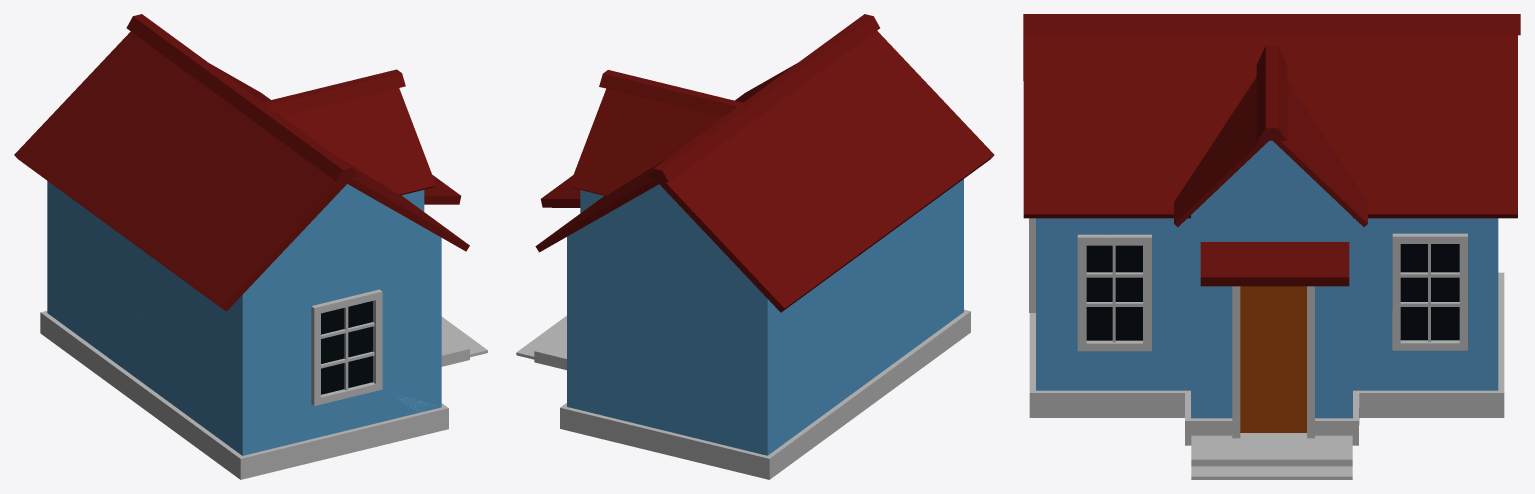
The model's file is House_1.FBX.
3 views of the same model, side by side, from view 1: azimuth 30°, elevation 25°; view 2: azimuth 150°, elevation 25°; view 3: azimuth 270°, elevation 25° (orthographic). The views are drawn at different scales.
Visible parts, largest first — view 1: polySurface104, polySurface100, polySurface144, polySurface120, polySurface141, polySurface155, polySurface102, polySurface142, polySurface78, polySurface145, polySurface82, polySurface140 (+12 smaller); view 2: polySurface80, polySurface82, polySurface144, polySurface120, polySurface141, polySurface104, polySurface102, polySurface142, polySurface89, polySurface140, polySurface145, polySurface146 (+13 smaller); view 3: polySurface129, polySurface131, polySurface123, polySurface119, polySurface126, polySurface127, polySurface110, polySurface132, polySurface122, polySurface100, polySurface117, polySurface96 (+26 smaller).
Boxes of the visible parts, x1=… form: polySurface104: x1=155, y1=262, x2=448, y2=479; polySurface100: x1=318, y1=199, x2=441, y2=412; polySurface144: x1=108, y1=115, x2=280, y2=295; polySurface120: x1=40, y1=226, x2=161, y2=421; polySurface141: x1=39, y1=90, x2=224, y2=198; polySurface155: x1=282, y1=88, x2=436, y2=195; polySurface102: x1=124, y1=237, x2=242, y2=370; polySurface142: x1=69, y1=100, x2=244, y2=226; polySurface78: x1=235, y1=184, x2=373, y2=347; polySurface145: x1=207, y1=164, x2=349, y2=311; polySurface82: x1=47, y1=181, x2=108, y2=289; polySurface140: x1=65, y1=31, x2=210, y2=100; polySurface80: x1=560, y1=263, x2=769, y2=479; polySurface82: x1=613, y1=184, x2=829, y2=424; polySurface144: x1=782, y1=73, x2=972, y2=243; polySurface120: x1=767, y1=266, x2=891, y2=479; polySurface141: x1=727, y1=115, x2=840, y2=293; polySurface104: x1=875, y1=203, x2=970, y2=390; polySurface102: x1=845, y1=182, x2=963, y2=354; polySurface142: x1=762, y1=100, x2=878, y2=271; polySurface89: x1=567, y1=210, x2=692, y2=321; polySurface140: x1=659, y1=125, x2=747, y2=255; polySurface145: x1=850, y1=31, x2=994, y2=168; polySurface146: x1=818, y1=50, x2=978, y2=173; polySurface129: x1=1023, y1=35, x2=1245, y2=218; polySurface131: x1=1286, y1=35, x2=1469, y2=218; polySurface123: x1=1156, y1=299, x2=1358, y2=445; polySurface119: x1=1353, y1=284, x2=1504, y2=417; polySurface126: x1=1023, y1=35, x2=1211, y2=134; polySurface127: x1=1454, y1=35, x2=1517, y2=218; polySurface110: x1=1029, y1=349, x2=1178, y2=417; polySurface132: x1=1380, y1=35, x2=1483, y2=218; polySurface122: x1=1152, y1=213, x2=1229, y2=376; polySurface100: x1=1036, y1=218, x2=1163, y2=389; polySurface117: x1=1353, y1=218, x2=1430, y2=320; polySurface96: x1=1092, y1=234, x2=1151, y2=351.
Size of the model in its own units: 16.83 by 13.89 by 18.21.
